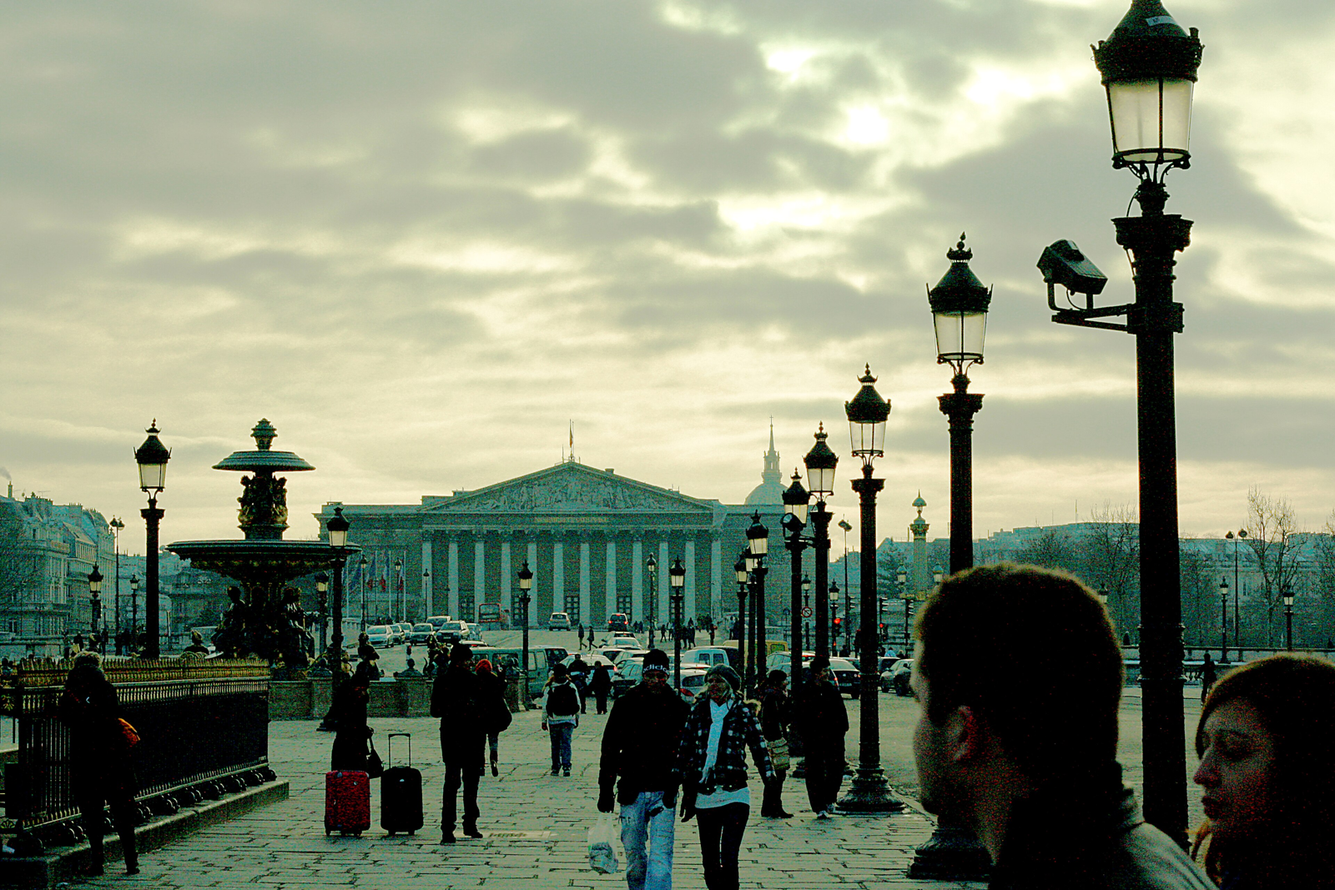fachada: (305, 436, 811, 676), (6, 484, 123, 671)
poste: (1089, 0, 1212, 834), (839, 359, 912, 805), (922, 229, 1016, 571), (805, 421, 855, 792), (774, 463, 826, 755), (732, 496, 788, 724), (131, 409, 179, 651), (311, 503, 365, 717), (496, 540, 555, 686), (657, 548, 707, 684), (630, 538, 674, 669), (302, 563, 338, 663), (79, 553, 113, 644)
